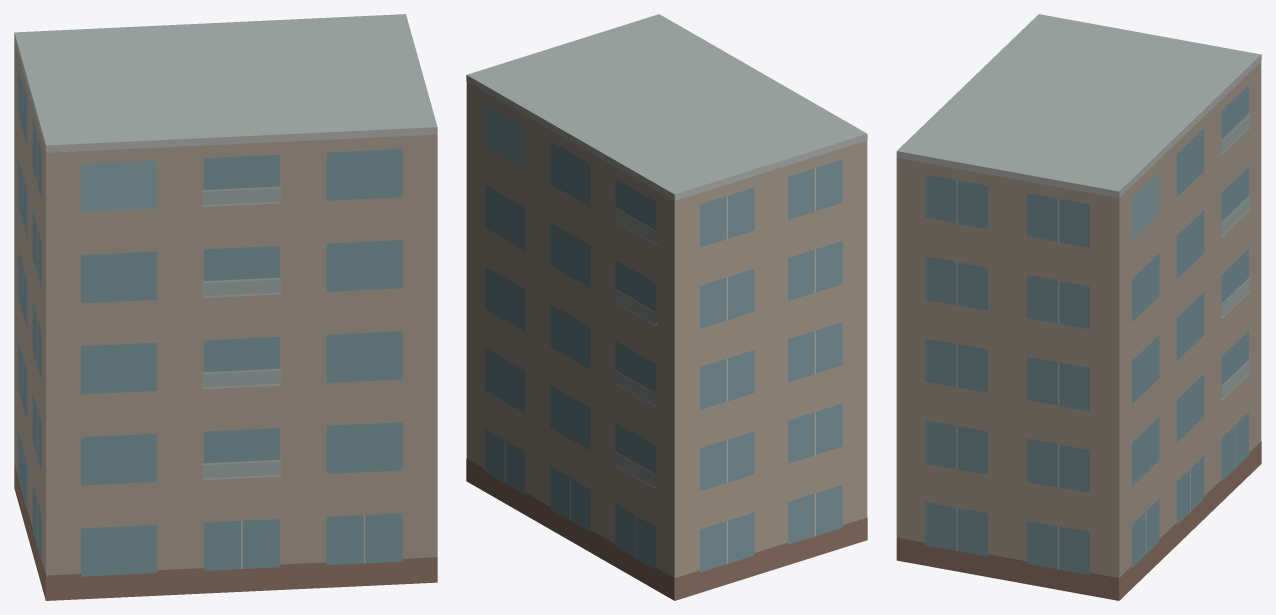
Rendered from survey-upis-32961877.glb.
3 views of the same model, side by side, from view 1: azimuth 30°, elevation 25°; view 2: azimuth 150°, elevation 25°; view 3: azimuth 270°, elevation 25° (orthographic). The views are drawn at different scales.
Visible parts, largest first — view 1: survey-upis-32961877.tmp; view 2: survey-upis-32961877.tmp; view 3: survey-upis-32961877.tmp.
Boxes of the visible parts, x1,y1,x2,y2 form: survey-upis-32961877.tmp: (14, 14, 437, 600); survey-upis-32961877.tmp: (466, 14, 867, 600); survey-upis-32961877.tmp: (896, 14, 1261, 600).
Size of the model in its own units: 13.96 by 15 by 12.13.
